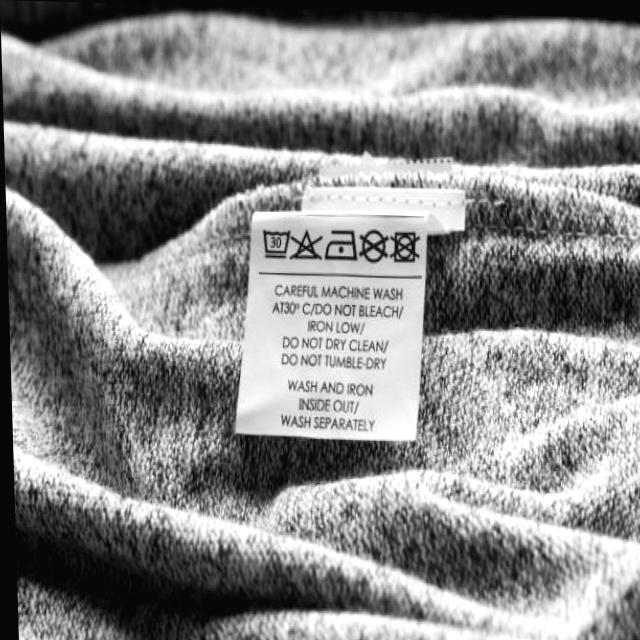30C: (261, 223, 294, 258)
DN_bleach: (291, 228, 325, 262)
DN_dry_clean: (359, 227, 390, 265)
DN_tumble_dry: (390, 229, 423, 265)
iron_low: (324, 225, 359, 263)
